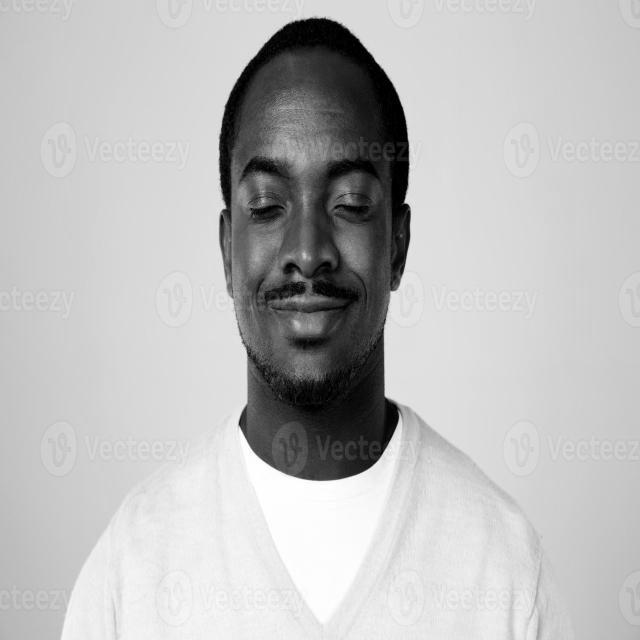real: (219, 17, 415, 402), (229, 137, 393, 233)
